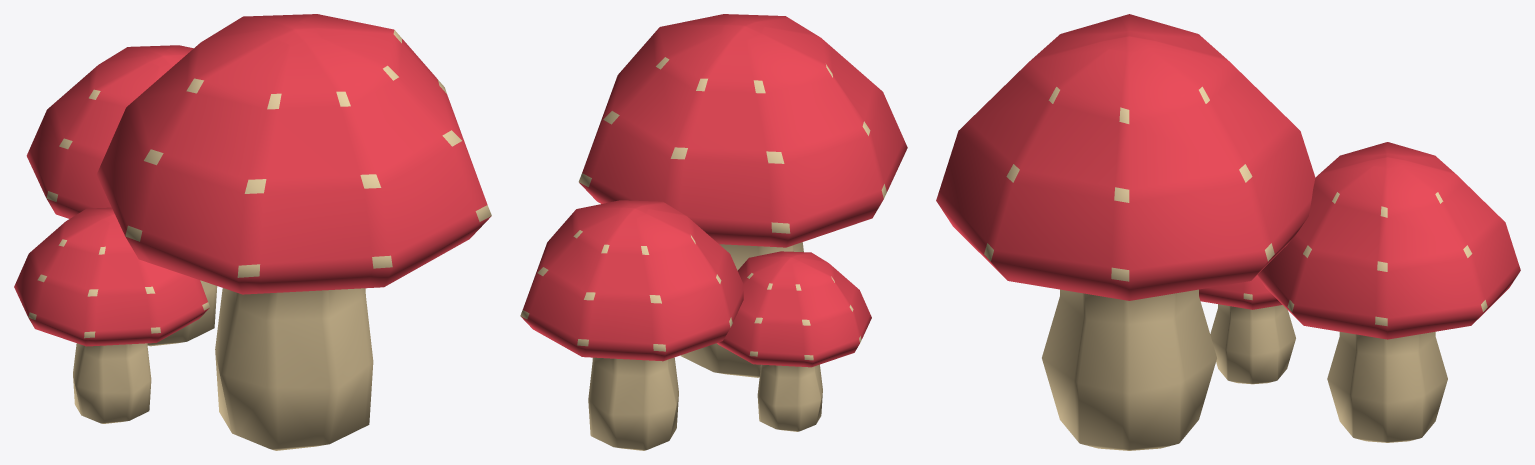
File: VR.fbx_hongos_3.fbx
3 renders of one model, left to right at view 1: azimuth 30°, elevation 25°; view 2: azimuth 150°, elevation 25°; view 3: azimuth 270°, elevation 25°, orthographic. The views are drawn at different scales.
Parts seen in each view (by area): view 1: hongos 3; view 2: hongos 3; view 3: hongos 3.
Part boxes in pixels (x1=…): hongos 3: x1=14, y1=14, x2=491, y2=450; hongos 3: x1=520, y1=14, x2=907, y2=450; hongos 3: x1=936, y1=14, x2=1520, y2=450.
Bounding box in the file's own units: 27.41 × 28.35 × 37.98.
